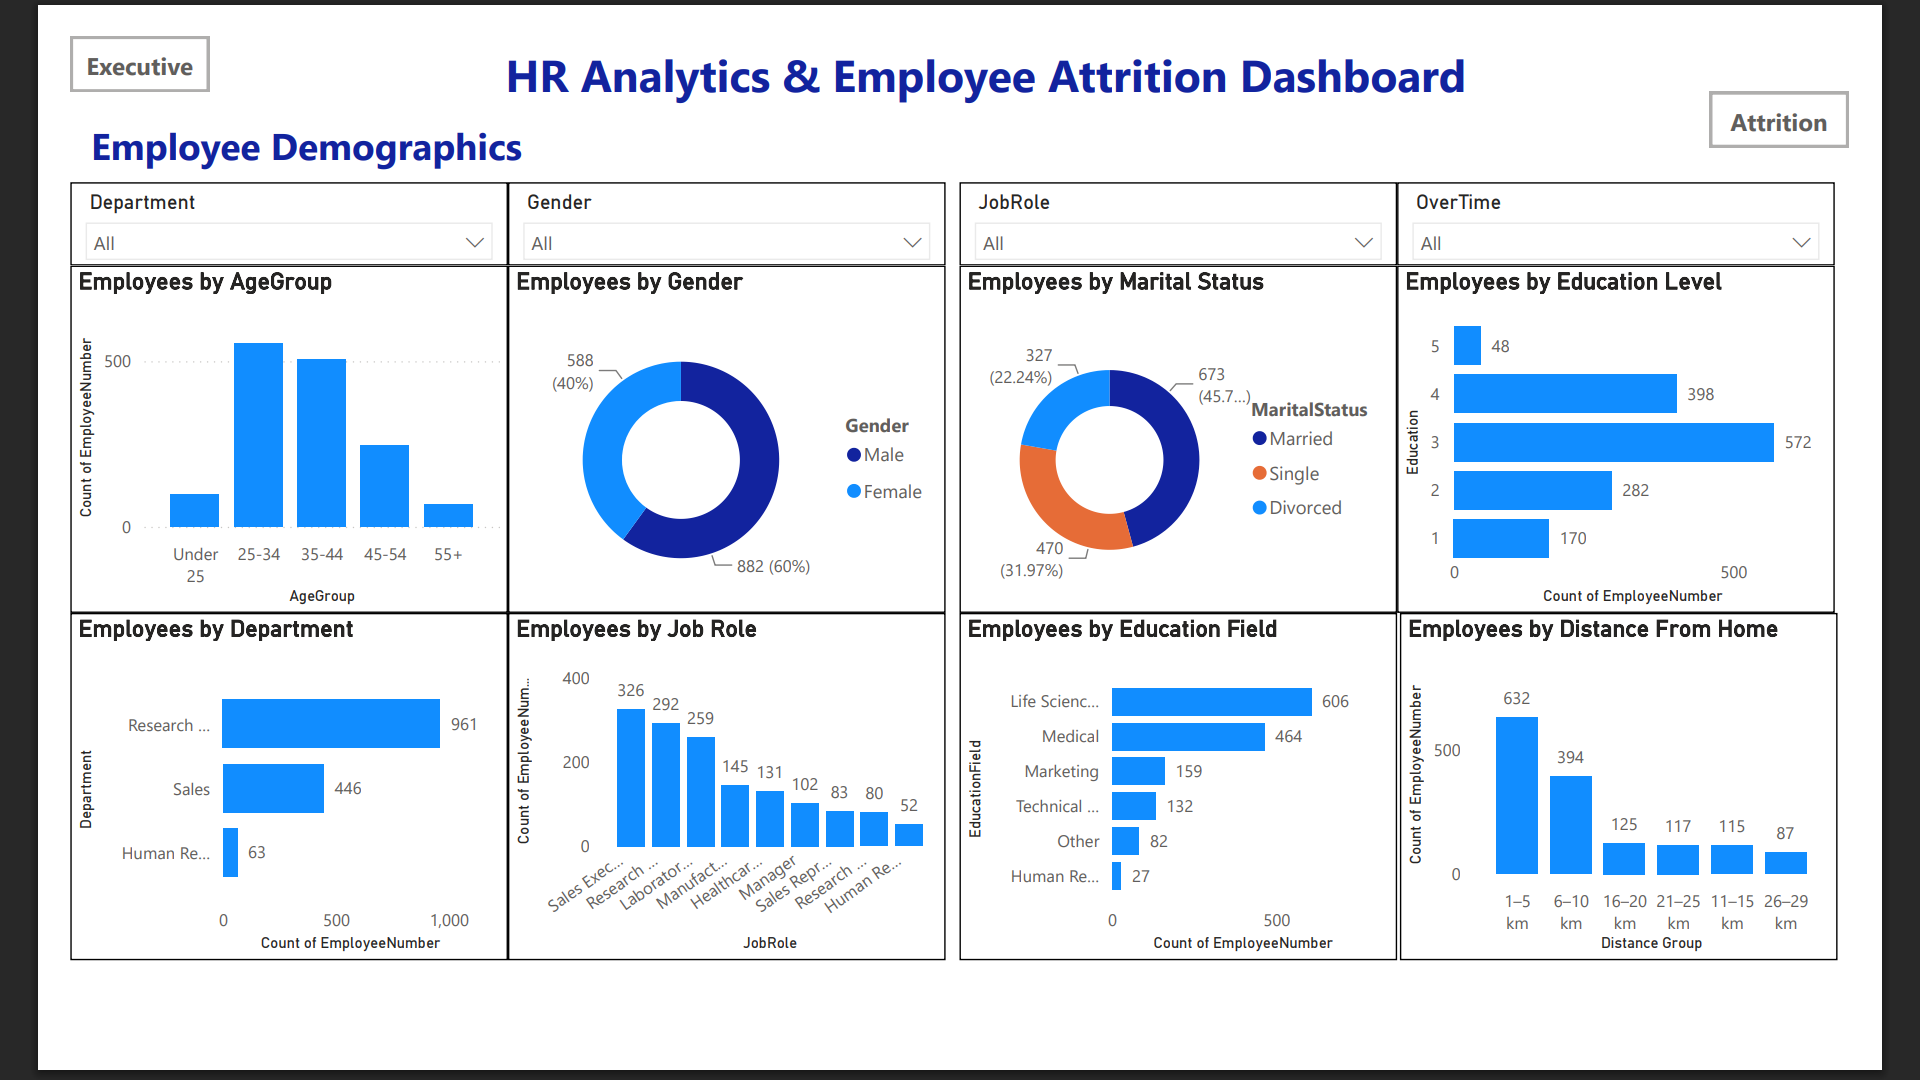

Layout of this report page (visuals, bound fields, positions):
{"tool":"powerbi","page":{"name":"Employee Demographics","canvas":[1280,720],"ordinal":1},"visuals":[{"type":"textbox","box":[289.5,0,738.3,54.9],"z":0},{"type":"textbox","box":[9.6,54.9,337.6,53.5],"z":1000},{"type":"slicer","fields":{"Values":["Employees.Gender"]},"box":[323.8,105.7,315,60],"z":2000},{"type":"slicer","fields":{"Values":["Employees.JobRole"]},"box":[639.5,105.7,315,60],"z":3000},{"type":"slicer","fields":{"Values":["Employees.OverTime"]},"box":[955,105.2,315,60],"z":4000},{"type":"slicer","fields":{"Values":["Employees.Department"]},"box":[9.6,105.7,315,60],"z":5000},{"type":"clusteredColumnChart","title":"Employees by AgeGroup","fields":{"Category":["Employees.AgeGroup"],"Y":["CountNonNull(Employees.EmployeeNumber)"]},"box":[9.8,165.1,315,220],"z":5001},{"type":"donutChart","title":"Employees by Gender","fields":{"Category":["Employees.Gender"],"Y":["CountNonNull(Employees.EmployeeNumber)"]},"box":[325.3,165.1,315,220],"z":5002},{"type":"donutChart","title":"Employees by Marital Status","fields":{"Category":["Employees.MaritalStatus"],"Y":["CountNonNull(Employees.EmployeeNumber)"]},"box":[639.5,165.1,315,220],"z":5003},{"type":"clusteredBarChart","title":"Employees by Education Level","fields":{"Category":["Employees.Education"],"Y":["CountNonNull(Employees.EmployeeNumber)"]},"box":[955,165.1,315,220],"z":5004},{"type":"clusteredColumnChart","title":"Employees by Job Role","fields":{"Category":["Employees.JobRole"],"Y":["CountNonNull(Employees.EmployeeNumber)"]},"box":[325,385,315,220],"z":5006},{"type":"clusteredBarChart","title":"Employees by Department","fields":{"Category":["Employees.Department"],"Y":["CountNonNull(Employees.EmployeeNumber)"]},"box":[9.8,385.2,315,220],"z":5007},{"type":"clusteredBarChart","title":"Employees by Education Field","fields":{"Category":["Employees.EducationField"],"Y":["CountNonNull(Employees.EmployeeNumber)"]},"box":[640,385,315,220],"z":5008},{"type":"clusteredColumnChart","title":"Employees by Distance From Home","fields":{"Y":["CountNonNull(Employees.EmployeeNumber)"],"Category":["Employees.Distance Group"]},"box":[955,385,315,220],"z":5009}]}

Visuals, with their boxes in screenshot pixels (x1, y1, x2, y2), scaled from the page's 1280x720 canvas onto the 1920x1080 screenshot:
textbox: x1=434, y1=0, x2=1542, y2=82
textbox: x1=14, y1=82, x2=521, y2=163
slicer - Employees.Gender: x1=486, y1=159, x2=958, y2=249
slicer - Employees.JobRole: x1=959, y1=159, x2=1432, y2=249
slicer - Employees.OverTime: x1=1432, y1=158, x2=1905, y2=248
slicer - Employees.Department: x1=14, y1=159, x2=487, y2=249
"Employees by AgeGroup" clusteredColumnChart: x1=15, y1=248, x2=487, y2=578
"Employees by Gender" donutChart: x1=488, y1=248, x2=960, y2=578
"Employees by Marital Status" donutChart: x1=959, y1=248, x2=1432, y2=578
"Employees by Education Level" clusteredBarChart: x1=1432, y1=248, x2=1905, y2=578
"Employees by Job Role" clusteredColumnChart: x1=488, y1=578, x2=960, y2=908
"Employees by Department" clusteredBarChart: x1=15, y1=578, x2=487, y2=908
"Employees by Education Field" clusteredBarChart: x1=960, y1=578, x2=1432, y2=908
"Employees by Distance From Home" clusteredColumnChart: x1=1432, y1=578, x2=1905, y2=908
